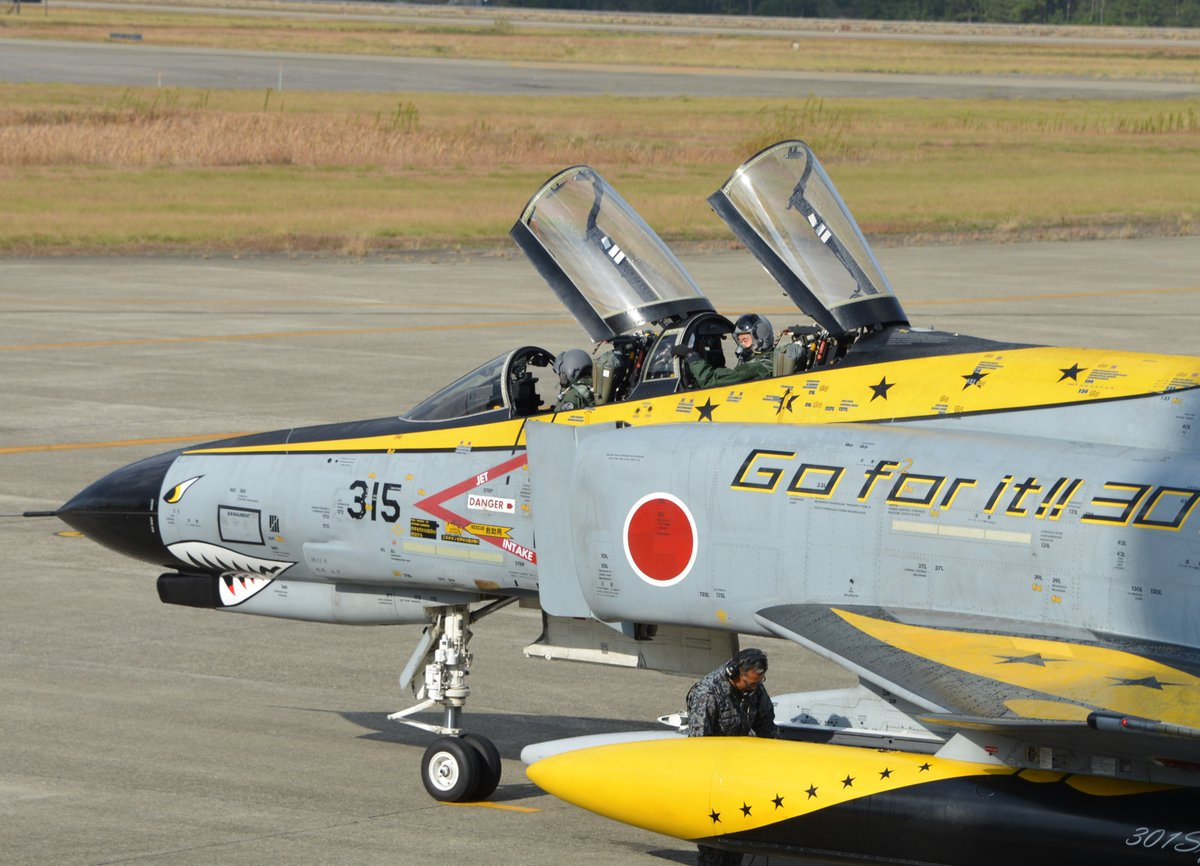F4: (1, 138, 1200, 866)
